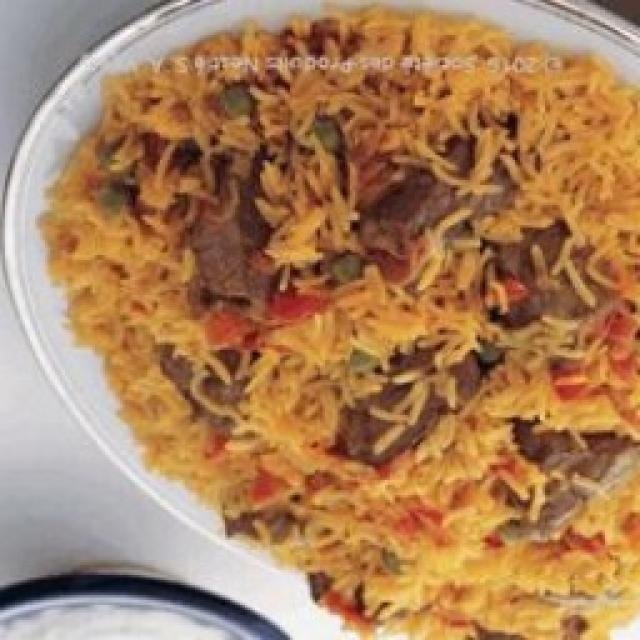Brik: (42, 11, 640, 640)
